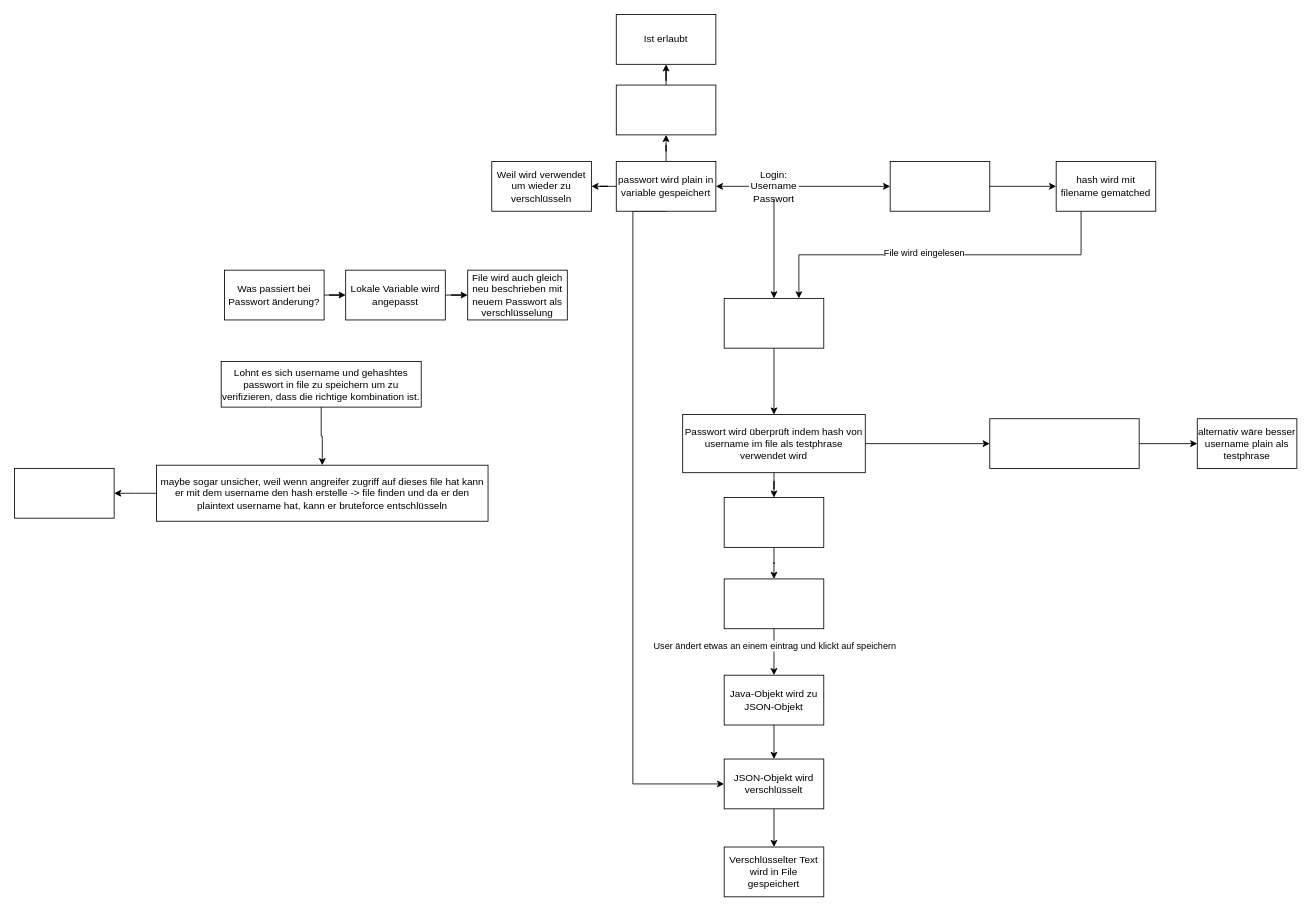
Some shapes in this 1311 by 911 pixel diagram are drawn without their labels. Here are the shapes that lost their labels. From the top down, the centre of each, then its label:
At (665,109): "Gefährlich bei Memory Leak".
At (939,186): "username wird gehashed".
At (773,323): "passwort in plain wird für entschlüsselung von file verwendet".
At (1064,443): "! anfällig für brute force attack weil name vom file = testphrase".
At (64,493): "ausser man speichert auch username hashed".
At (773,522): "Inhalt wird in JSON Objekt gelesen".
At (773,603): "Json Objekt wird zu Java-Objekt".
